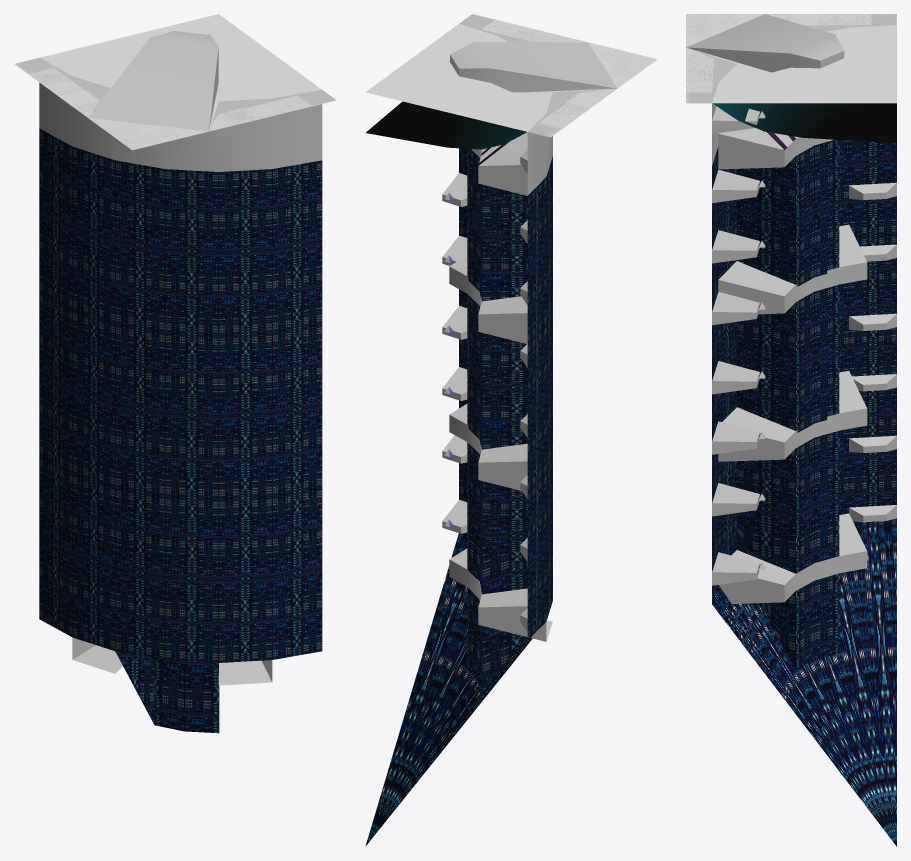
Rendered from debigh02.FBX.
3 views of the same model, side by side, from view 1: azimuth 30°, elevation 25°; view 2: azimuth 150°, elevation 25°; view 3: azimuth 270°, elevation 25° (orthographic). The views are drawn at different scales.
Visible parts, largest first — view 1: shaft, terrain__h, debigh02, ledges, terrain, wedges; view 2: shaft, terrain__h, cone, ledges, wedges, barrier__2e, terrain, debigh02; view 3: shaft, cone, ledges, wedges, terrain__h, barrier__2e, terrain.
Part boxes in pixels (left/top/right/bottom): shaft: left=39, top=128, right=322, bottom=733; terrain__h: left=15, top=14, right=336, bottom=150; debigh02: left=39, top=82, right=322, bottom=171; ledges: left=88, top=31, right=218, bottom=131; terrain: left=16, top=57, right=335, bottom=149; wedges: left=72, top=637, right=272, bottom=685; shaft: left=459, top=148, right=552, bottom=693; terrain__h: left=366, top=14, right=657, bottom=137; cone: left=365, top=533, right=532, bottom=846; ledges: left=442, top=42, right=617, bottom=631; wedges: left=449, top=132, right=552, bottom=641; barrier__2e: left=366, top=101, right=526, bottom=149; terrain: left=459, top=14, right=656, bottom=137; debigh02: left=527, top=132, right=552, bottom=195; shaft: left=712, top=139, right=896, bottom=669; cone: left=712, top=526, right=896, bottom=846; ledges: left=686, top=14, right=896, bottom=585; wedges: left=718, top=128, right=867, bottom=603; terrain__h: left=686, top=14, right=896, bottom=103; barrier__2e: left=713, top=103, right=896, bottom=143; terrain: left=686, top=14, right=896, bottom=103.
Size of what is drawn, in the model's own units: 64 by 64 by 257.
